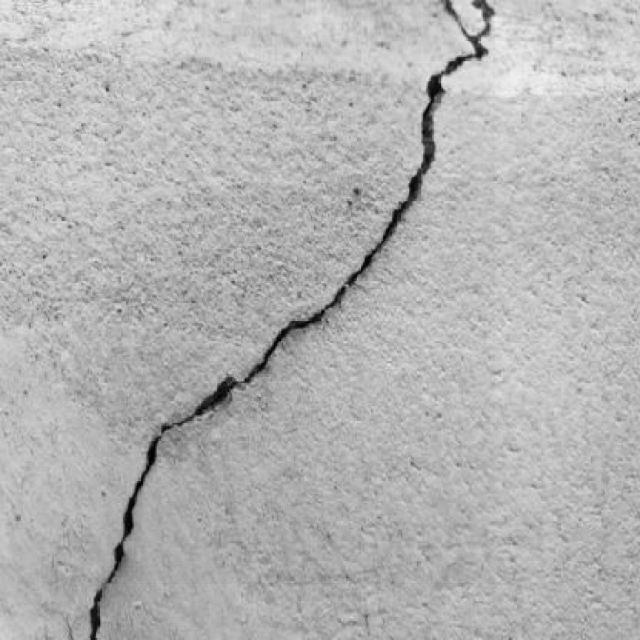multi-branched crack: (107, 1, 495, 584)
vertical crack: (88, 588, 104, 638)
